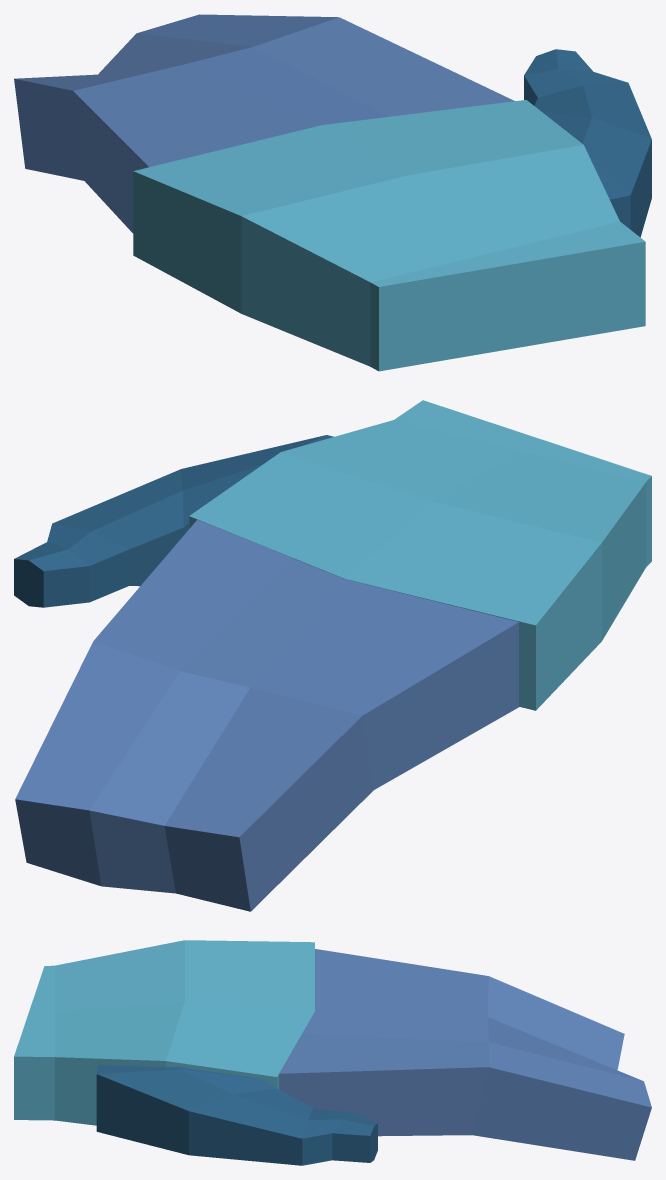
File: VR_Hand_Blue.FBX
3 views of the same model, one above another, from view 1: azimuth 30°, elevation 25°; view 2: azimuth 150°, elevation 25°; view 3: azimuth 270°, elevation 25° (orthographic). The views are drawn at different scales.
Parts seen in each view (by area): view 1: VR_Hand_Blue; view 2: VR_Hand_Blue; view 3: VR_Hand_Blue.
Part boxes in pixels (x1=…): VR_Hand_Blue: x1=14, y1=14, x2=651, y2=371; VR_Hand_Blue: x1=14, y1=400, x2=651, y2=911; VR_Hand_Blue: x1=14, y1=940, x2=651, y2=1165.
Bounding box in the file's own units: 19.08 × 6.73 × 28.84.
